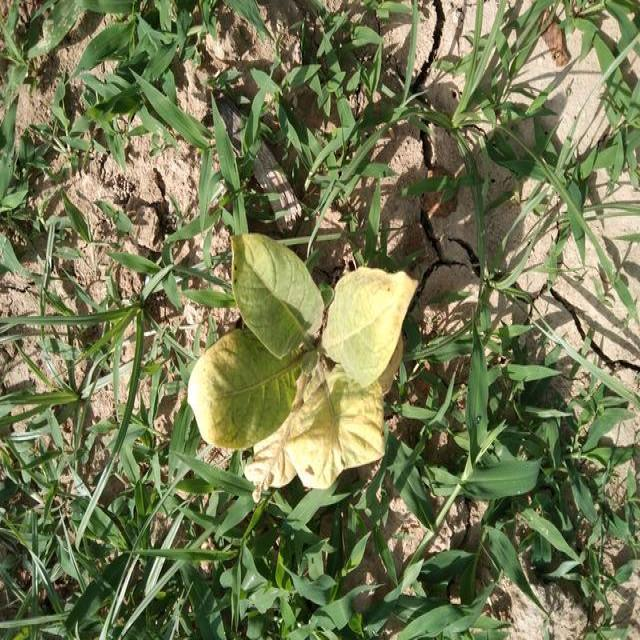tobacco: (187, 233, 417, 495)
